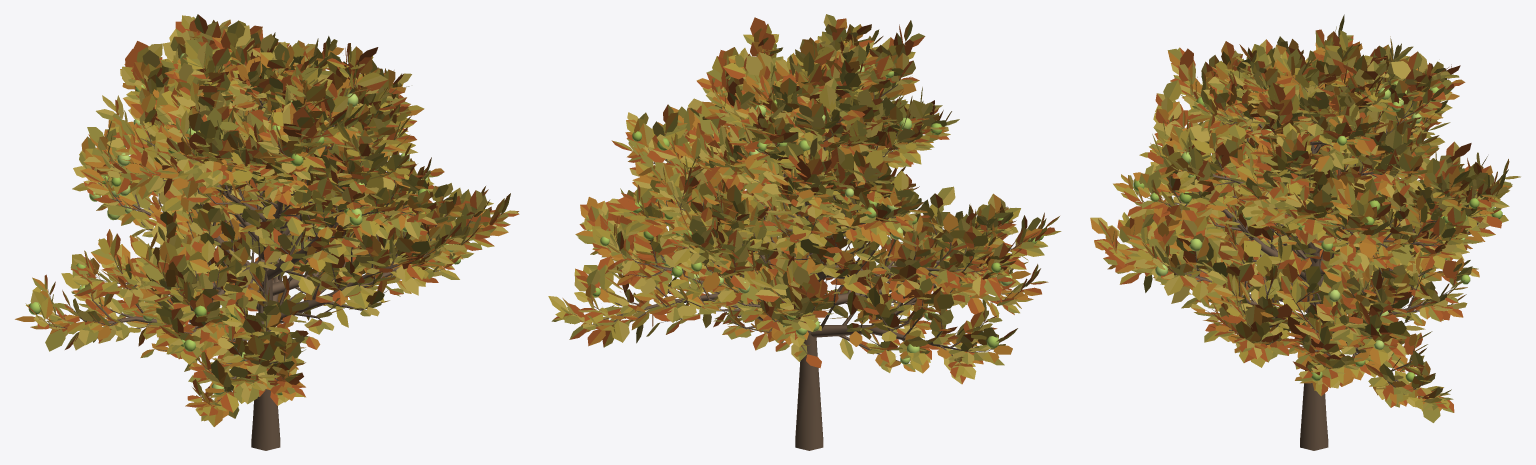
Rendered from pommier_verte_automne.glb.
The picture shows the model from 3 angles, left to right: view 1: azimuth 30°, elevation 25°; view 2: azimuth 150°, elevation 25°; view 3: azimuth 270°, elevation 25°; orthographic projection. The views are drawn at different scales.
Parts seen in each view (by area): view 1: Pommier_Feuillage, Pommier_Tronc, Pommier_Pommes; view 2: Pommier_Feuillage, Pommier_Tronc, Pommier_Pommes; view 3: Pommier_Feuillage, Pommier_Tronc, Pommier_Pommes.
Boxes of the visible parts, x1,y1,x2,y2 form: Pommier_Feuillage: (15, 14, 519, 426); Pommier_Tronc: (38, 38, 503, 450); Pommier_Pommes: (28, 53, 460, 395); Pommier_Feuillage: (548, 14, 1061, 384); Pommier_Tronc: (570, 42, 1042, 450); Pommier_Pommes: (587, 64, 1043, 364); Pommier_Feuillage: (1090, 14, 1520, 422); Pommier_Tronc: (1111, 47, 1501, 450); Pommier_Pommes: (1133, 57, 1502, 382).
Bounding box in the file's own units: 5.11 × 4.41 × 4.23.
